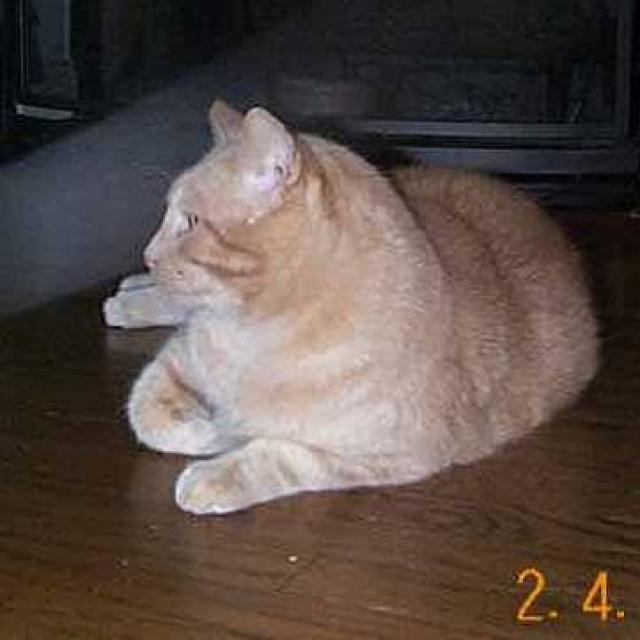cat: (101, 96, 603, 517)
